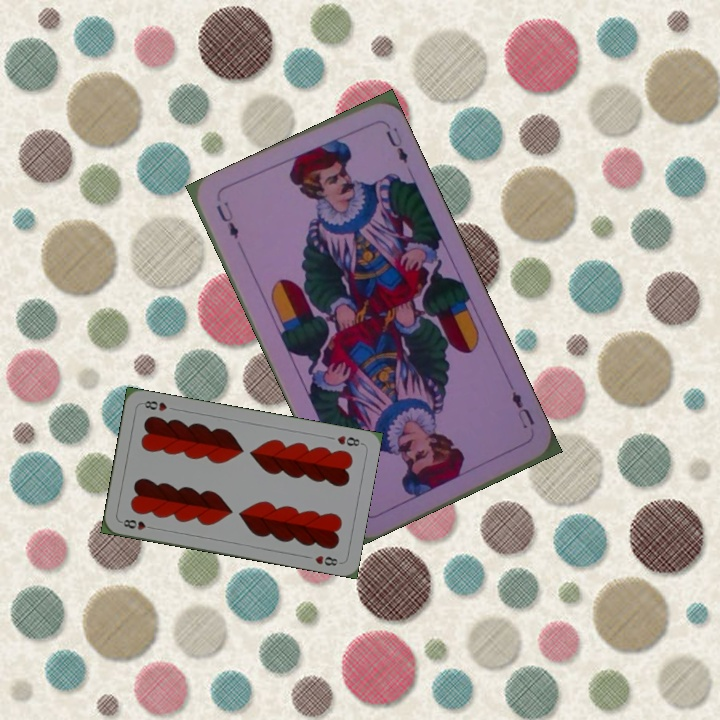EU: (507, 386, 537, 432), (212, 197, 241, 242)
H8: (117, 515, 158, 533), (333, 431, 365, 449)
